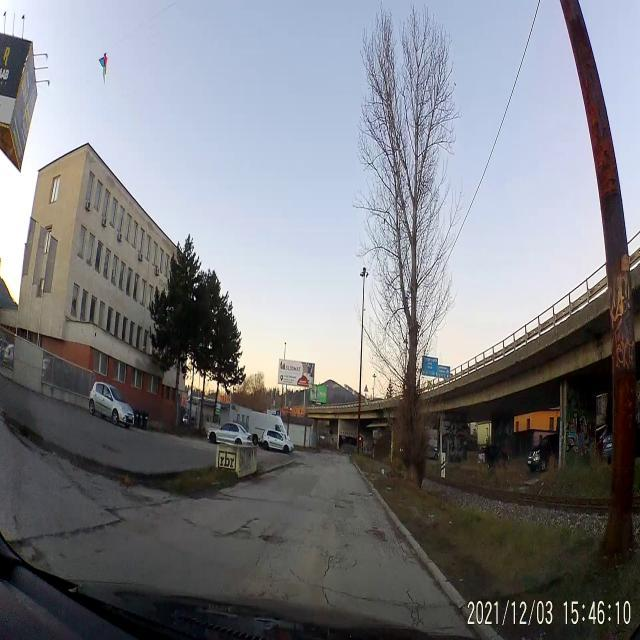Pothole: (220, 518, 256, 542), (367, 527, 387, 549), (324, 500, 350, 512), (342, 488, 372, 498), (261, 530, 277, 546)
